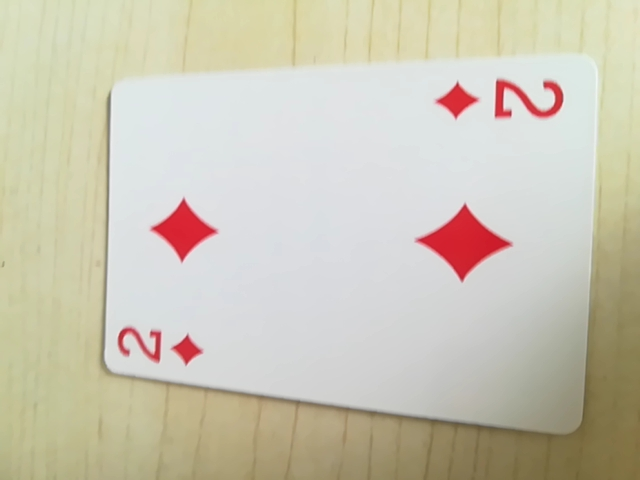fk 2: (433, 66, 567, 132), (114, 315, 213, 373)
